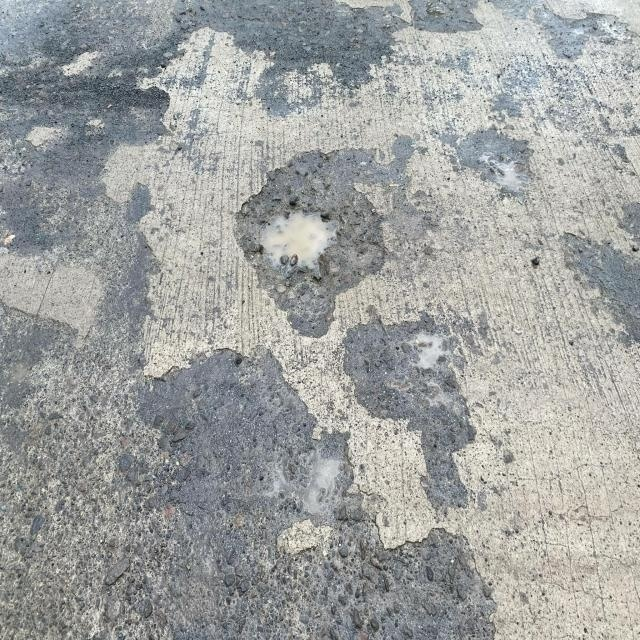pothole: (227, 172, 363, 320)
